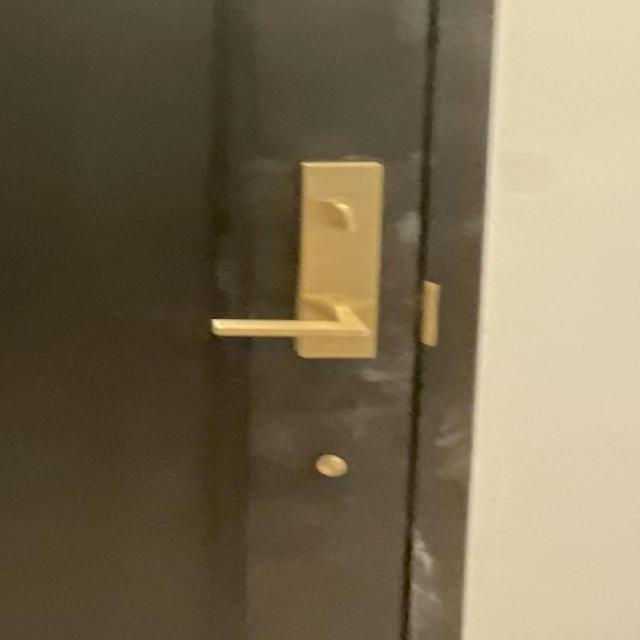door_handle: (200, 289, 401, 354)
